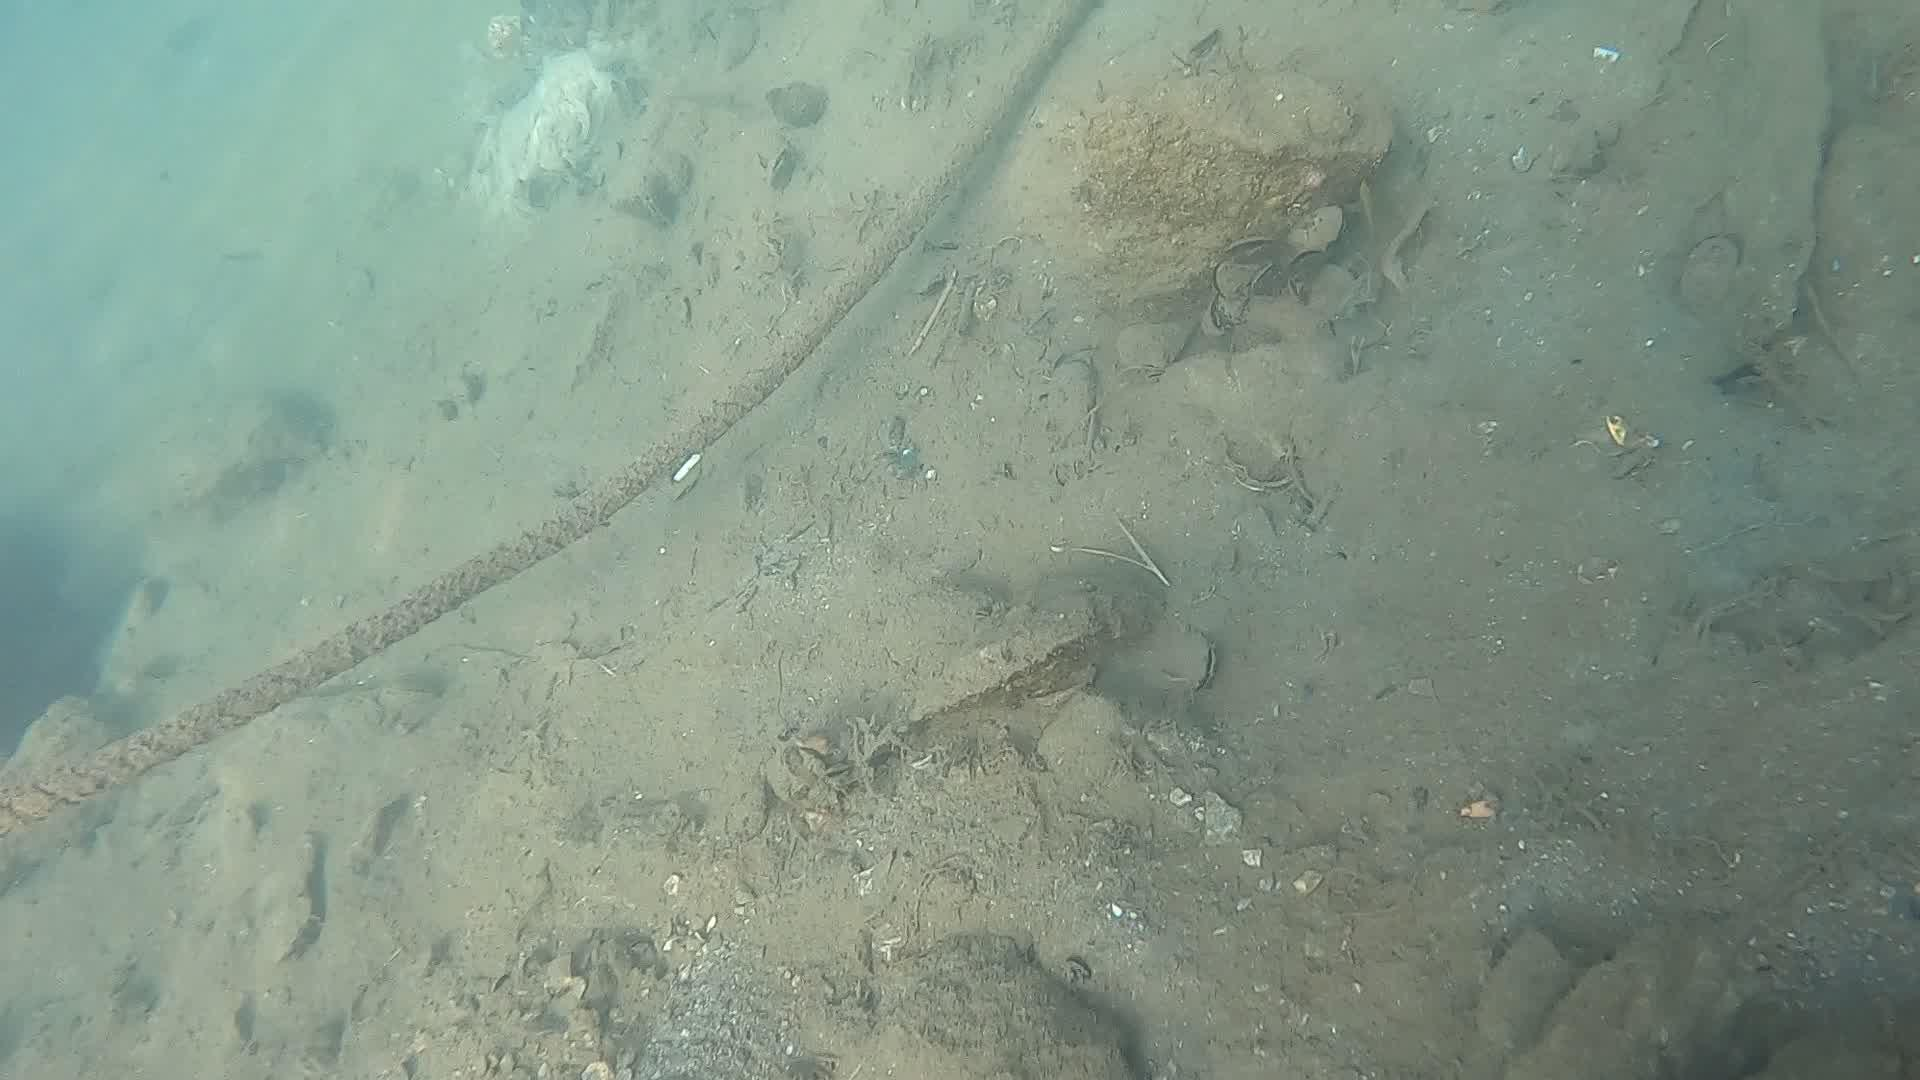rope: (0, 0, 1105, 837)
